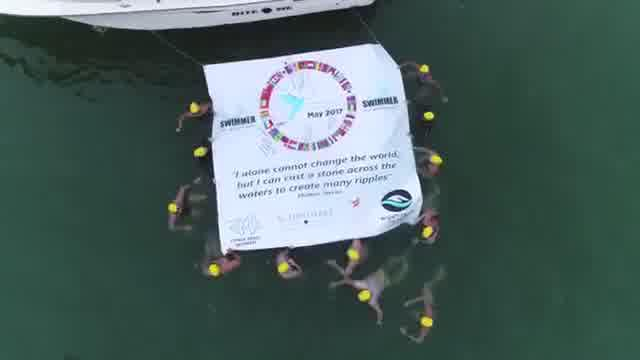swimmer: (332, 268, 404, 328), (399, 282, 445, 342), (397, 64, 457, 108), (156, 184, 194, 234), (196, 247, 246, 281), (403, 214, 448, 250), (324, 244, 370, 278), (414, 143, 446, 184), (174, 103, 214, 133), (276, 244, 300, 284)
